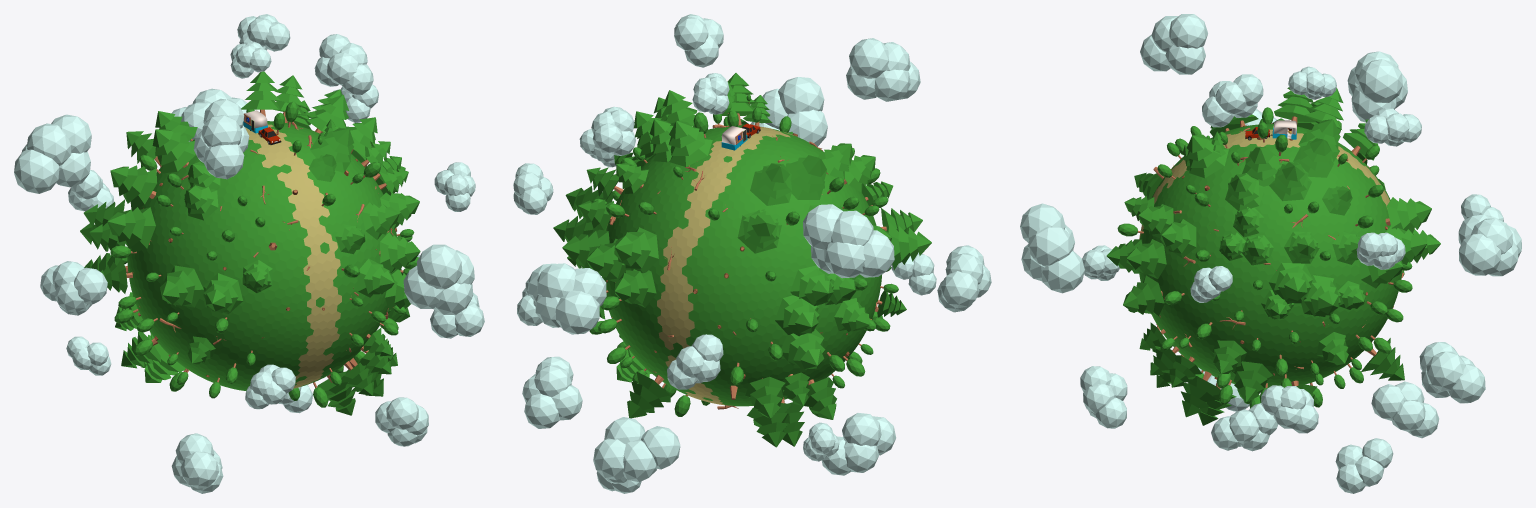
The model's file is WholePlanetRendered.glb.
3 renders of one model, left to right at view 1: azimuth 30°, elevation 25°; view 2: azimuth 150°, elevation 25°; view 3: azimuth 270°, elevation 25°, orthographic. The views are drawn at different scales.
Parts seen in each view (by area): view 1: Sphere.012, Icosphere; view 2: Sphere.012, Icosphere; view 3: Sphere.012, Icosphere.
Part boxes in pixels (<box>): Sphere.012: <box>80,71,420,415</box>; Icosphere: <box>14,14,484,493</box>; Sphere.012: <box>553,73,931,447</box>; Icosphere: <box>513,14,991,493</box>; Sphere.012: <box>1106,87,1440,425</box>; Icosphere: <box>1020,14,1521,493</box>.
Size of the model in its own units: 227 by 214 by 238.
